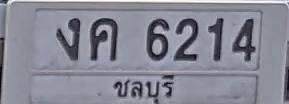1: (208, 17, 224, 61)
2: (174, 18, 198, 60)
4: (232, 18, 255, 61)
6: (146, 18, 169, 60)
A04: (90, 17, 118, 61)
A07: (56, 17, 80, 61)
CBI: (111, 69, 174, 104)
